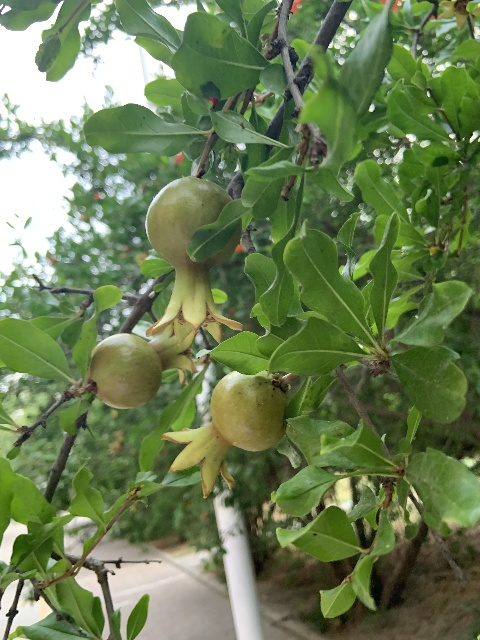mid-growth: (143, 177, 244, 345), (160, 371, 288, 497), (87, 327, 209, 409)
